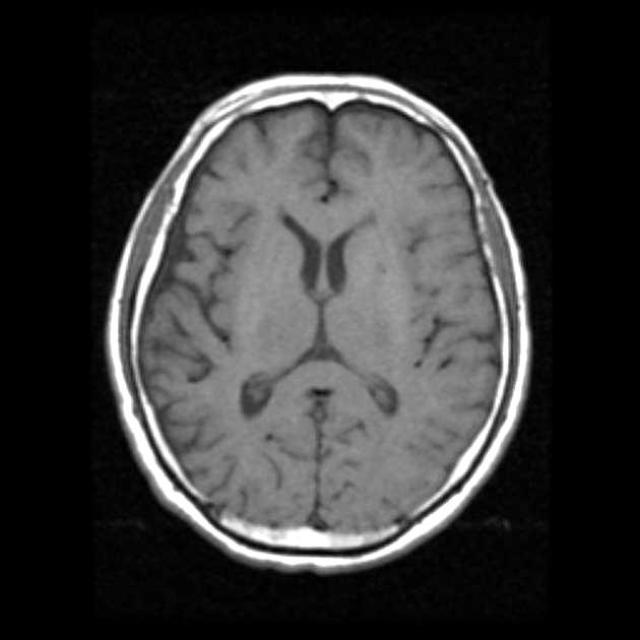notumor: (107, 75, 531, 573)
